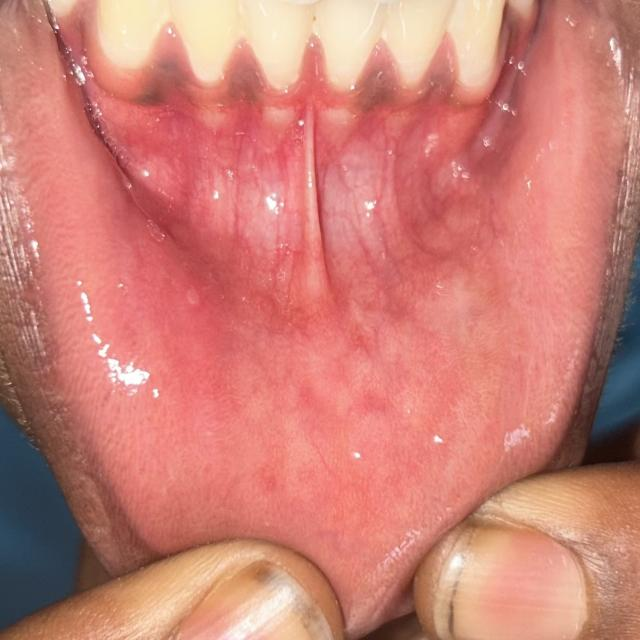processing_area: (10, 0, 626, 626)
